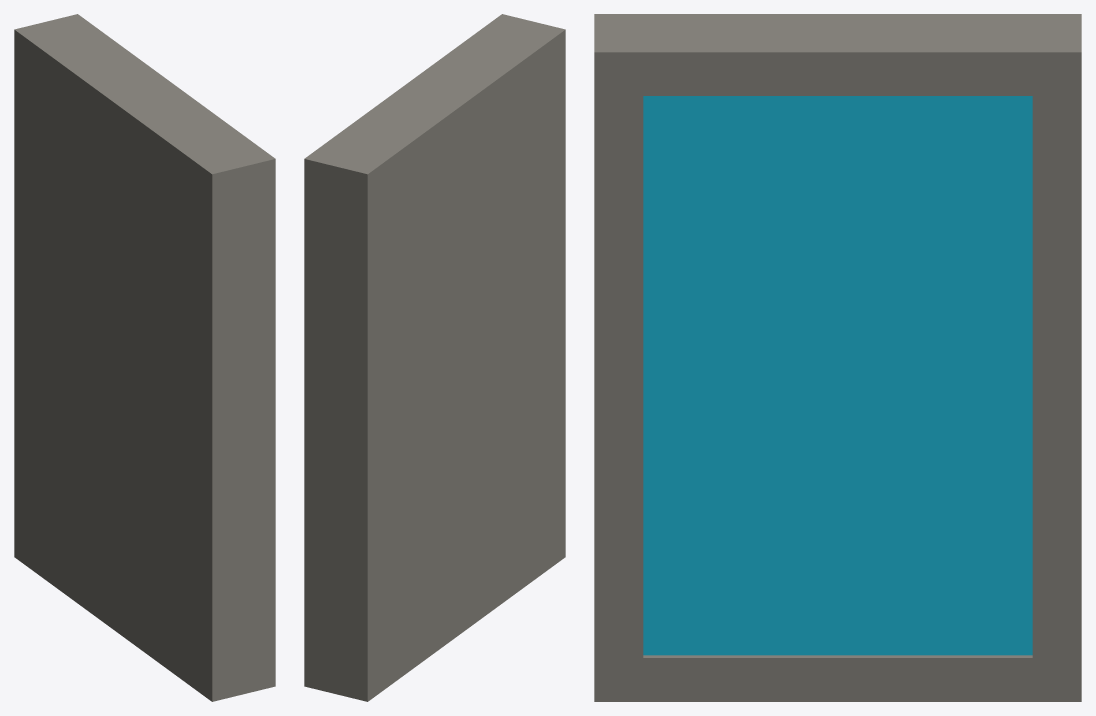
Rendered from CM_VerticalScanner.fbx.
3 renders of one model, left to right at view 1: azimuth 30°, elevation 25°; view 2: azimuth 150°, elevation 25°; view 3: azimuth 270°, elevation 25°, orthographic. The views are drawn at different scales.
Parts seen in each view (by area): view 1: Frame.002; view 2: Frame.002; view 3: Scanner.002, Frame.002.
Boxes of the visible parts, <box> form: Frame.002: <box>14,14,275,701</box>; Frame.002: <box>304,14,565,701</box>; Scanner.002: <box>643,96,1032,655</box>; Frame.002: <box>594,14,1081,701</box>.
Size of the model in its own units: 2.72 by 21.57 by 14.66.
